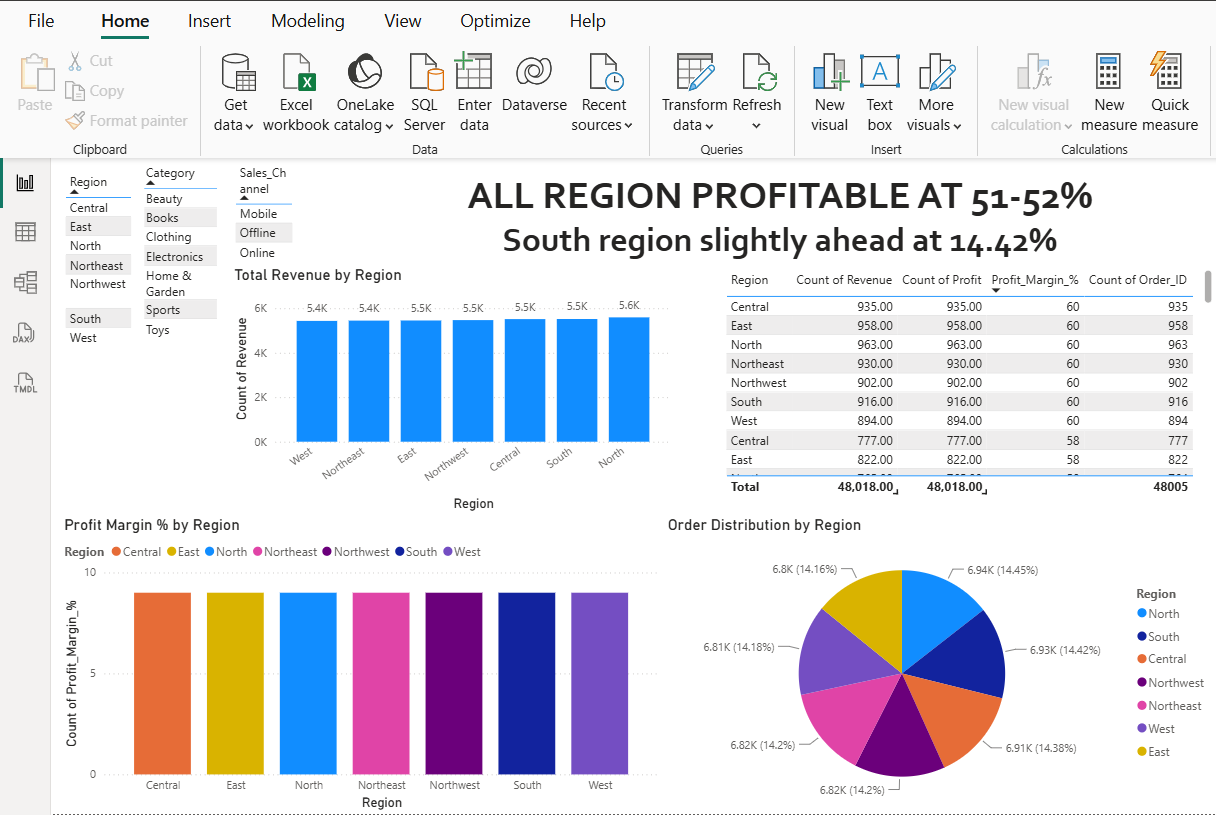

This screenshot's page, from the dashboard's own definition file:
{"tool":"powerbi","page":{"name":"Regional Analysis ","canvas":[1280,720],"ordinal":2},"visuals":[{"type":"columnChart","title":"Total Revenue by Region","fields":{"Category":["Sales_Data.Region"],"Y":["Count(Sales_Data.Revenue)"]},"box":[196.2,118,489.9,274.4],"z":0},{"type":"columnChart","title":"Profit Margin % by Region","fields":{"Category":["Sales_Data.Region"],"Y":["Count(Sales_Data.Profit_Margin_%)"],"Series":["Sales_Data.Region"]},"box":[9.6,392.5,662.8,328],"z":1000},{"type":"pieChart","title":"Order Distribution by Region","fields":{"Category":["Sales_Data.Region"],"Y":["CountNonNull(Sales_Data.Order_ID)"]},"box":[672.4,392.5,607.9,328],"z":2000},{"type":"tableEx","fields":{"Values":["Sales_Data.Region","select","Sales_Data.Revenue","select1","Sales_Data.Profit","Sales_Data.Profit_Margin_%","Sales_Data.Order_ID"]},"box":[735.5,118.3,544.5,256.6],"z":3000},{"type":"textbox","box":[319.7,9.6,960.6,108.4],"z":4000},{"type":"tableEx","fields":{"Values":["Sales_Data.Sales_Channel"]},"box":[196.2,0,83.7,118],"z":5000},{"type":"tableEx","fields":{"Values":["Sales_Data.Category"]},"box":[92.7,0,104.1,229.5],"z":6000},{"type":"tableEx","fields":{"Values":["Sales_Data.Region"]},"box":[10,10,92.7,206.7],"z":7000}]}

Visuals, with their boxes on the page's 1280x720 design canvas (x1, y1, x2, y2). These are canvas units, not pixel positions in the 1216x815 screenshot, which may show the page scaled, cropped or inside an application window:
"Total Revenue by Region" columnChart: (x1=196, y1=118, x2=686, y2=392)
"Profit Margin % by Region" columnChart: (x1=10, y1=392, x2=672, y2=720)
"Order Distribution by Region" pieChart: (x1=672, y1=392, x2=1280, y2=720)
tableEx - Sales_Data.Region x select: (x1=736, y1=118, x2=1280, y2=375)
textbox: (x1=320, y1=10, x2=1280, y2=118)
tableEx - Sales_Data.Sales_Channel: (x1=196, y1=0, x2=280, y2=118)
tableEx - Sales_Data.Category: (x1=93, y1=0, x2=197, y2=230)
tableEx - Sales_Data.Region: (x1=10, y1=10, x2=103, y2=217)
